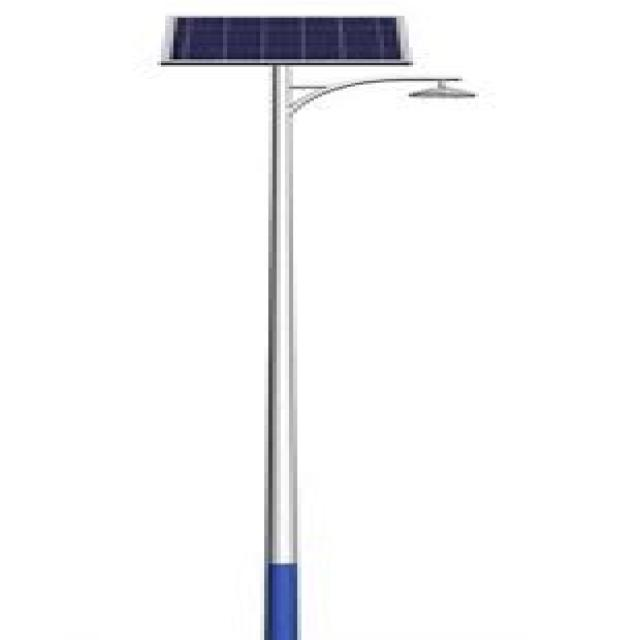Street Light: (256, 69, 475, 634)
